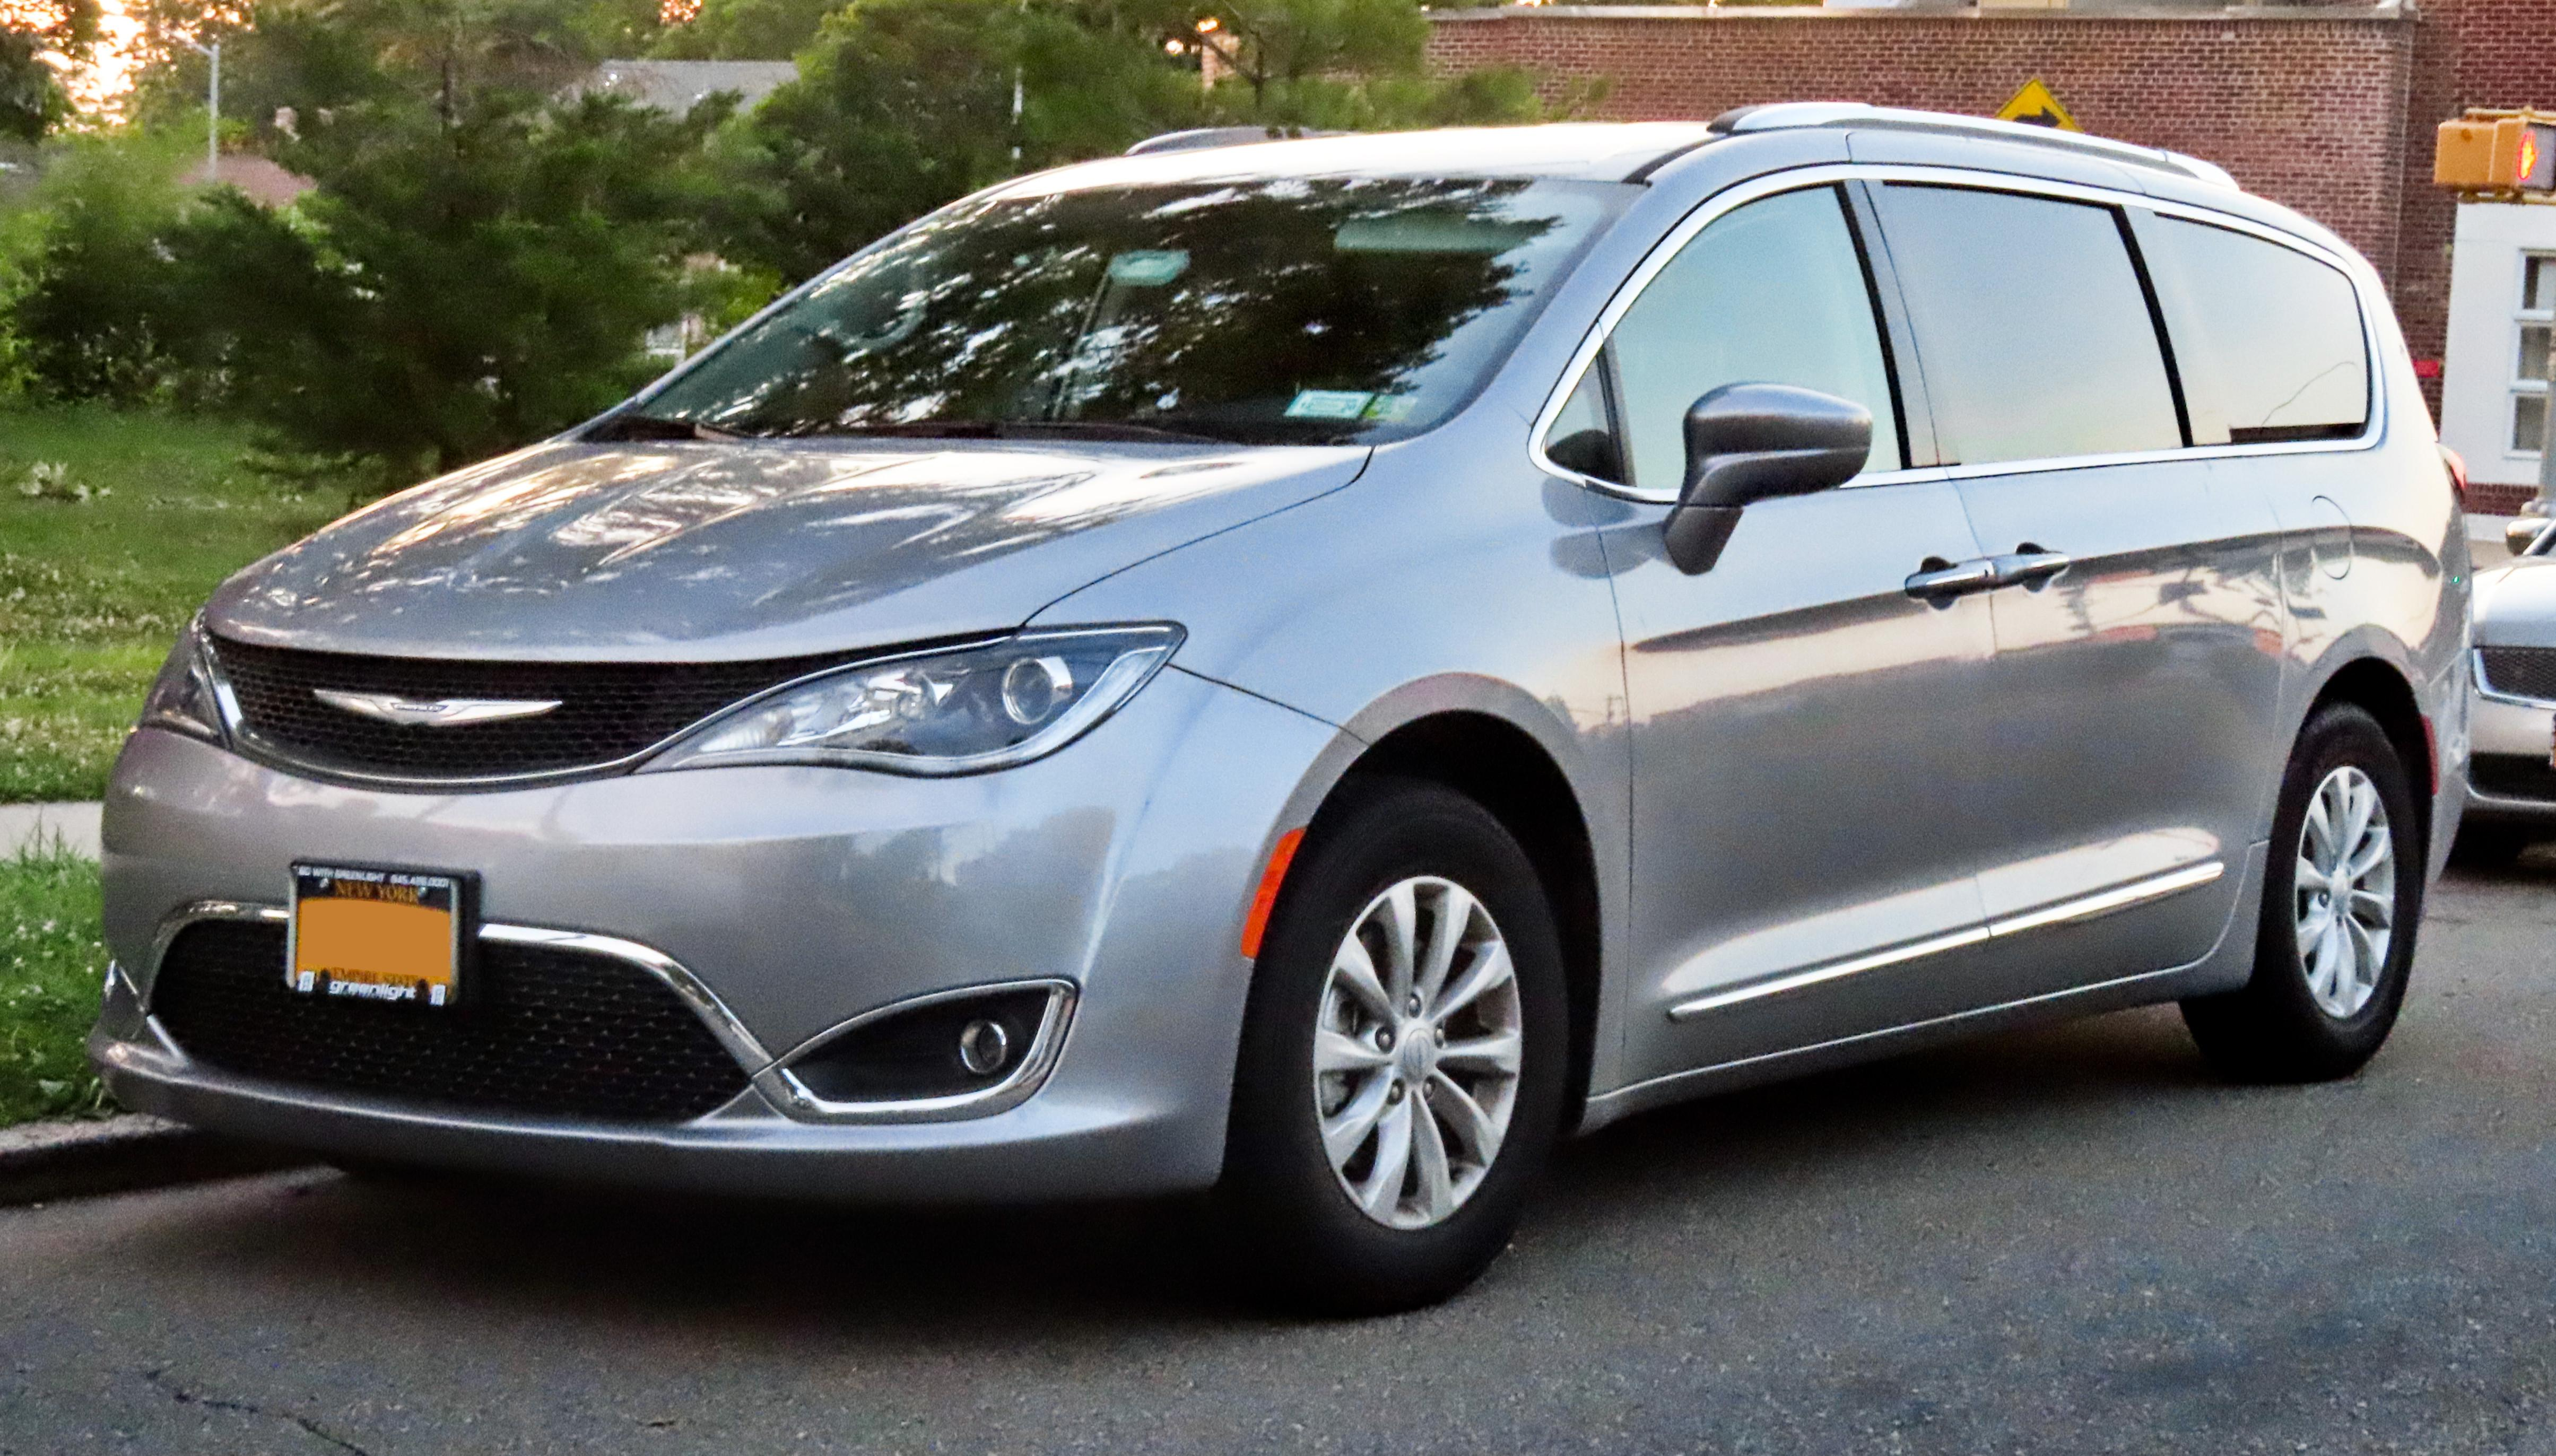Minivan: (90, 105, 2471, 1307)
